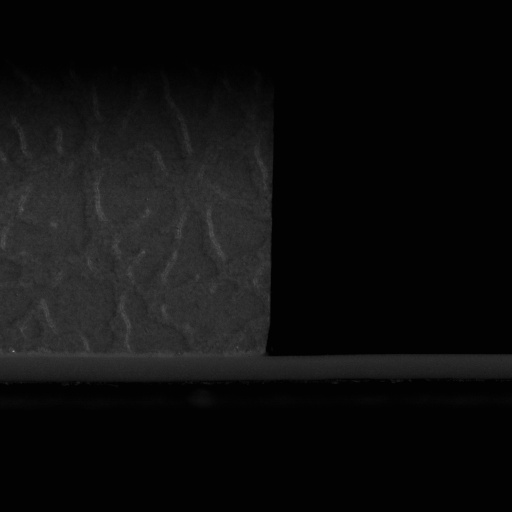changdai: (263, 352, 507, 379)
